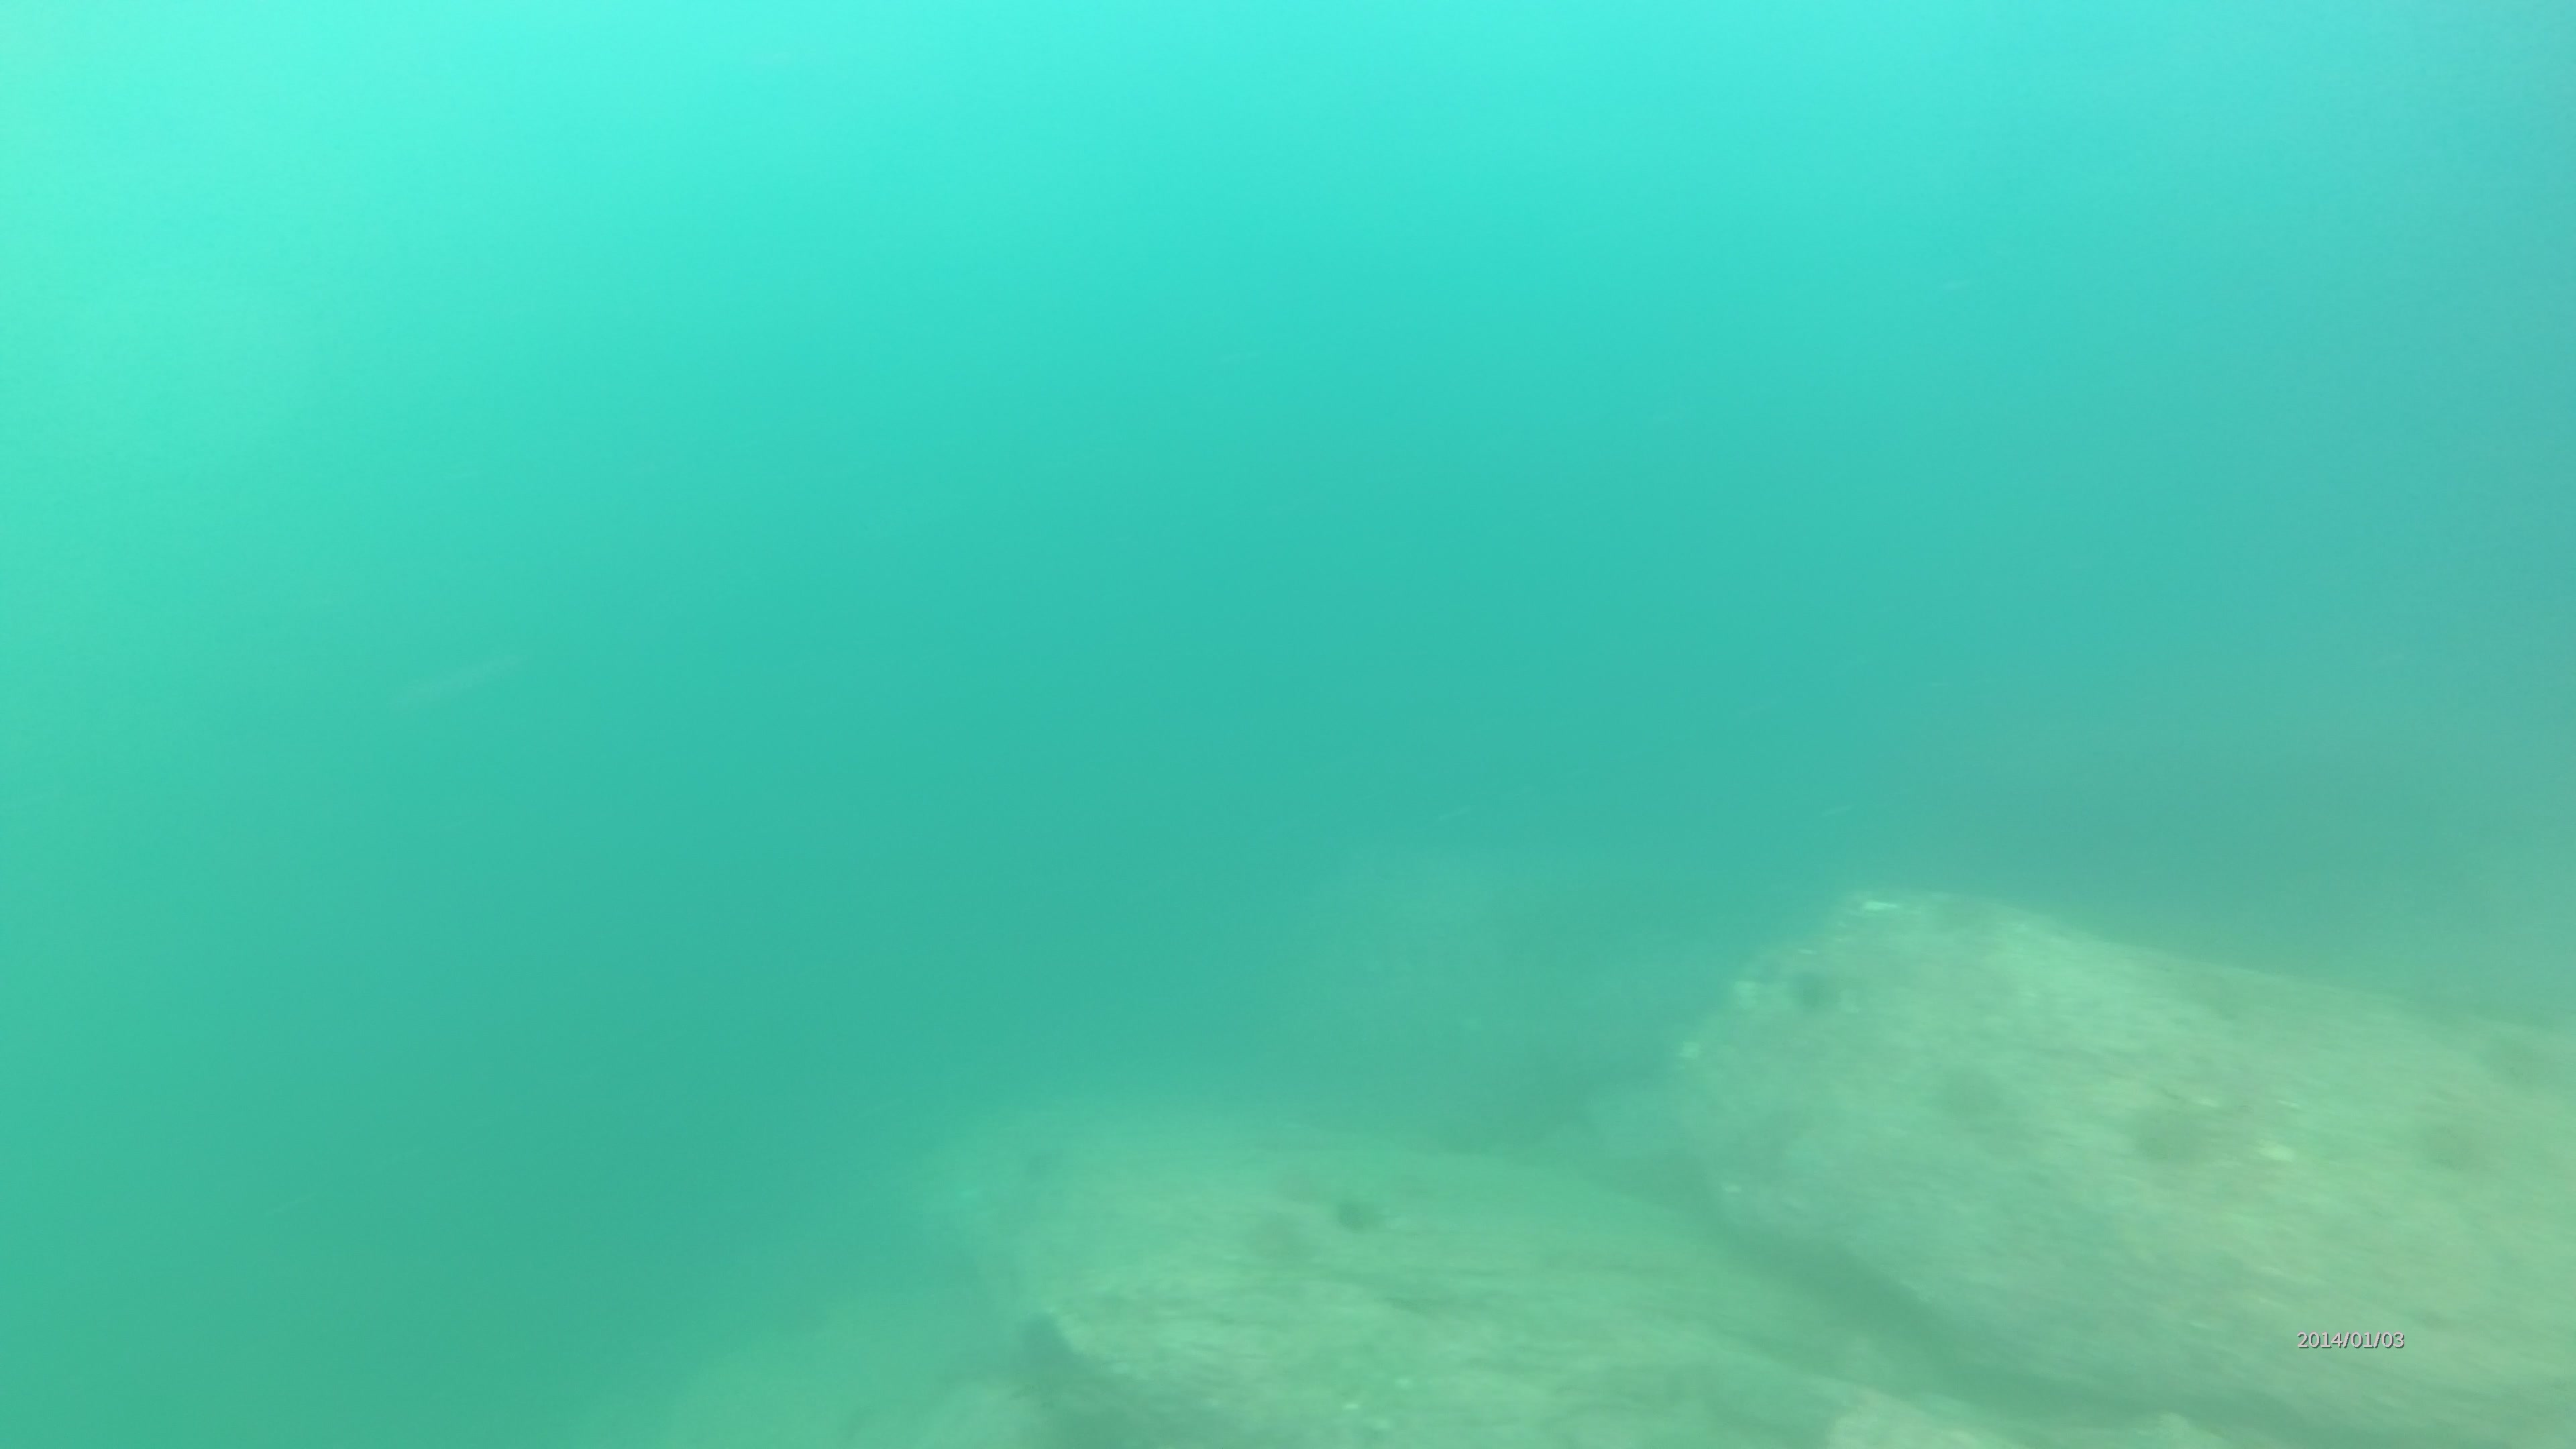echinus: (2130, 1092, 2217, 1180), (2473, 1028, 2558, 1097), (2417, 1099, 2479, 1185), (1775, 962, 1854, 1024), (1334, 1187, 1394, 1249)
